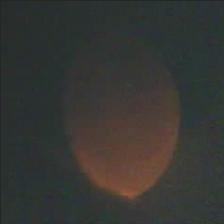fertile: (63, 23, 180, 197)
